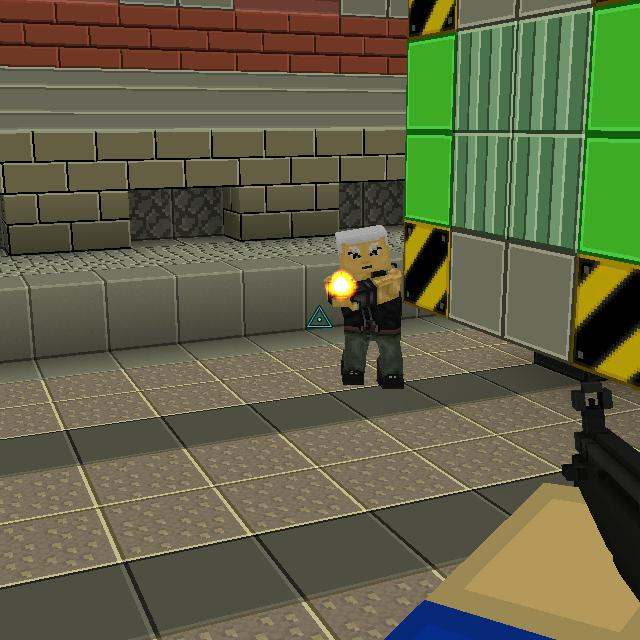enemy: (319, 214, 416, 390)
